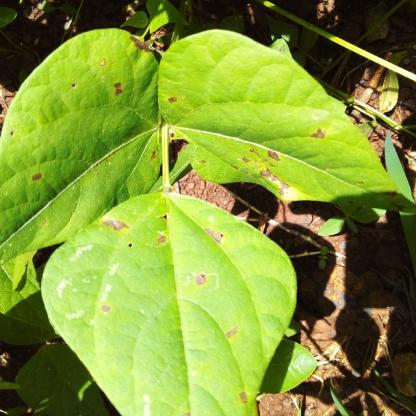Beans_Angular_LeafSpot: (40, 190, 296, 416), (158, 29, 413, 212), (0, 35, 162, 268)
